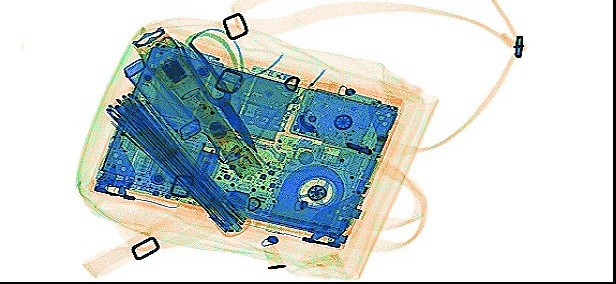scissors: (156, 30, 257, 151)
zippooil: (121, 56, 200, 141)
